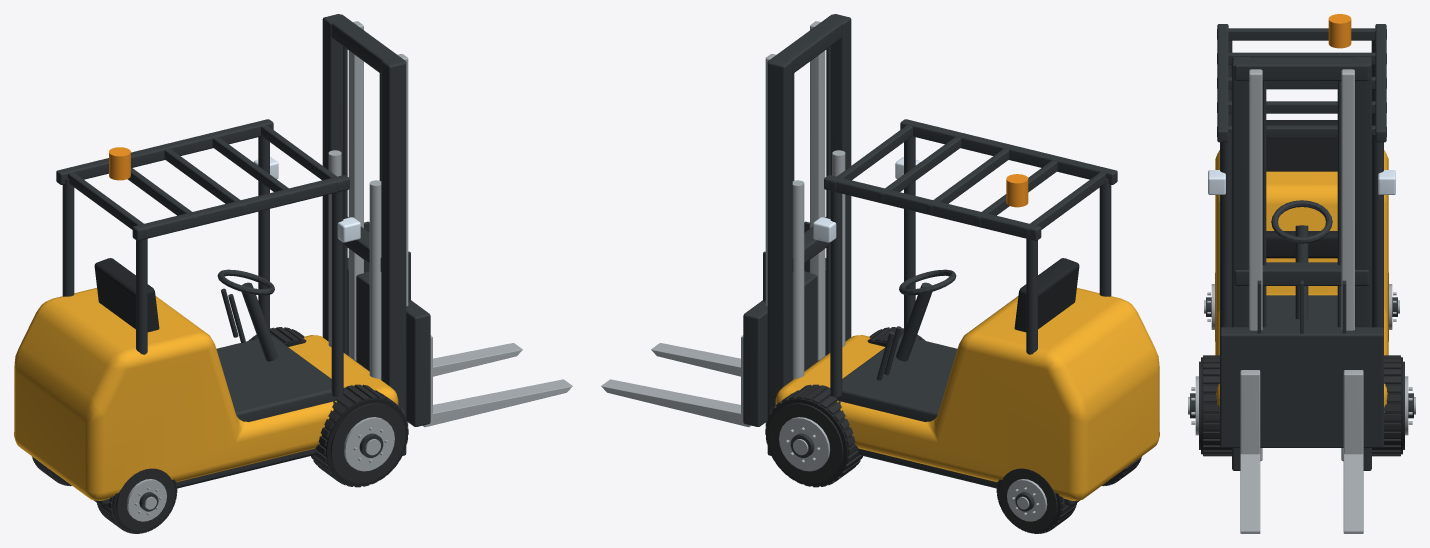
Rendered from SM_Forklift.fbx.
3 renders of one model, left to right at view 1: azimuth 30°, elevation 25°; view 2: azimuth 150°, elevation 25°; view 3: azimuth 270°, elevation 25°, orthographic. The views are drawn at different scales.
Visible parts, largest first — view 1: SM_Forklift; view 2: SM_Forklift; view 3: SM_Forklift.
Part boxes in pixels (box(x1,y1,x2,y2)): SM_Forklift: box(14, 14, 572, 533); SM_Forklift: box(601, 14, 1159, 533); SM_Forklift: box(1188, 14, 1415, 533).
Bounding box in the file's own units: 388 × 150 × 301.
